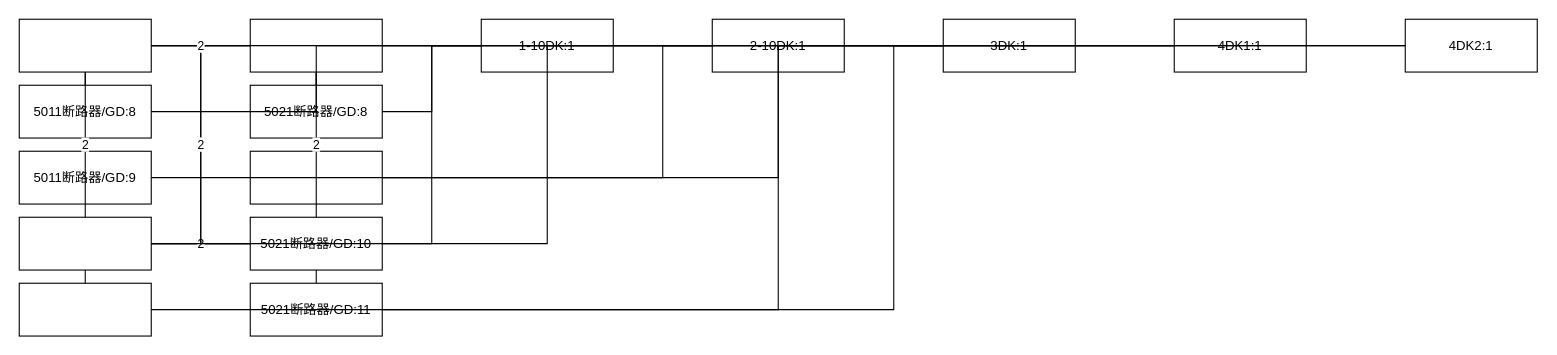
This 1557x355 diagram has some shape labels left out. The shapes that lost their labels are listed below. From the top down, each one's box as (x1, y1, x2, y2) in pixels, then its label:
(18, 18, 151, 72): 5011断路器/GD:7
(249, 18, 382, 72): 5021断路器/GD:7
(249, 150, 382, 204): 5021断路器/GD:9
(18, 216, 151, 270): 5011断路器/GD:10
(18, 282, 151, 336): 5011断路器/GD:11
